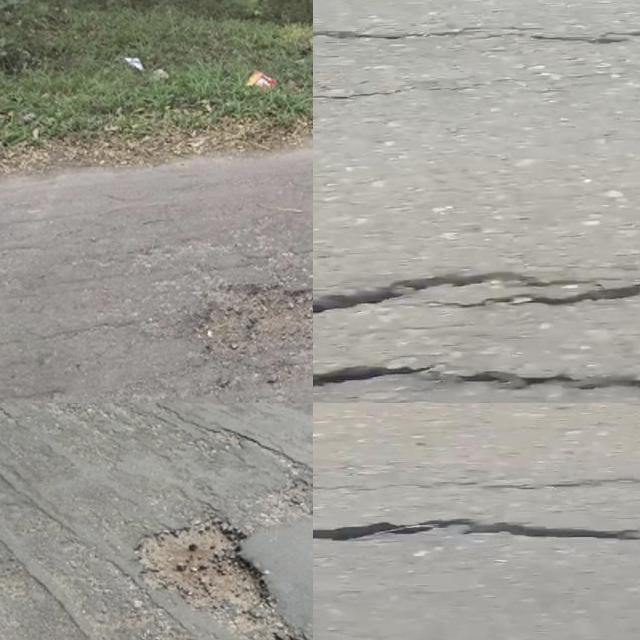Lubang: (140, 521, 267, 616), (197, 277, 313, 356)
Melintang: (313, 259, 640, 319), (313, 348, 640, 402), (313, 503, 640, 556), (313, 15, 640, 51)
